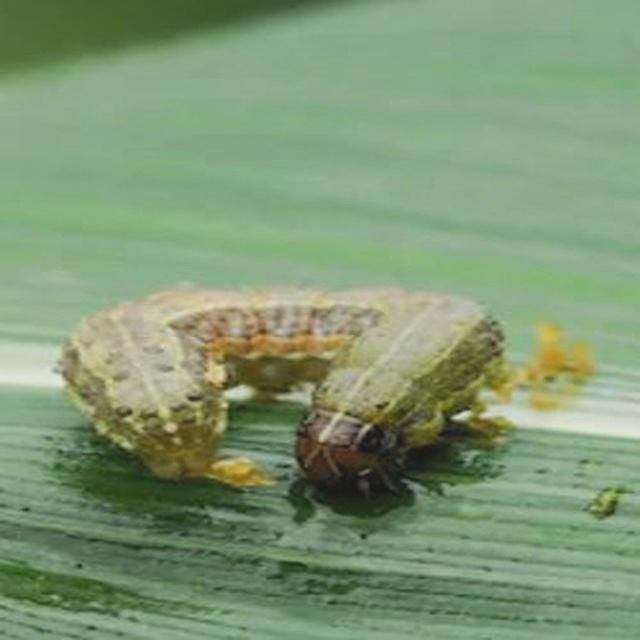gusano_cogollero: (54, 284, 504, 488)
